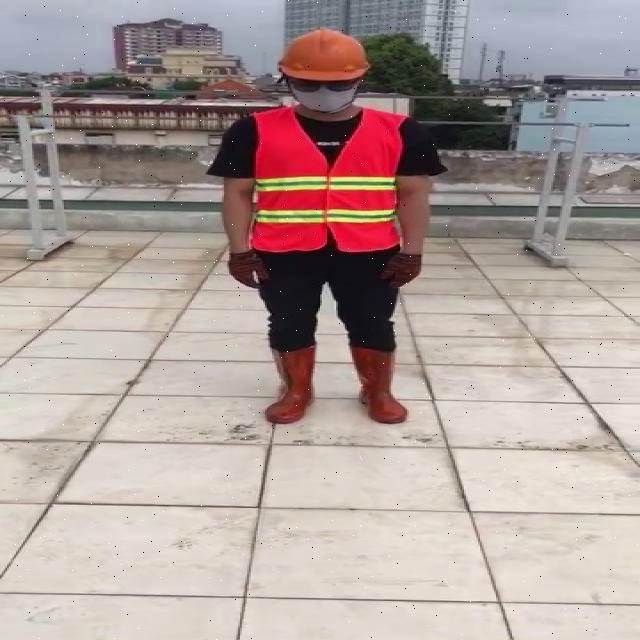Hard_hat: (275, 26, 377, 88)
Person: (201, 23, 455, 438)
Vest: (249, 102, 405, 250)
